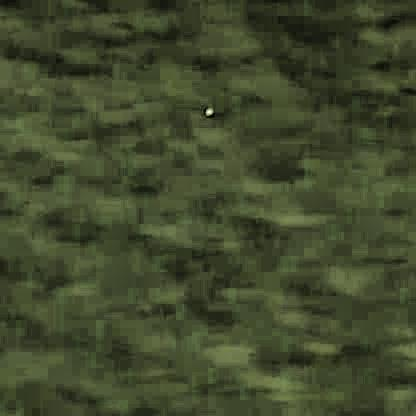golfball: (202, 107, 212, 114)
